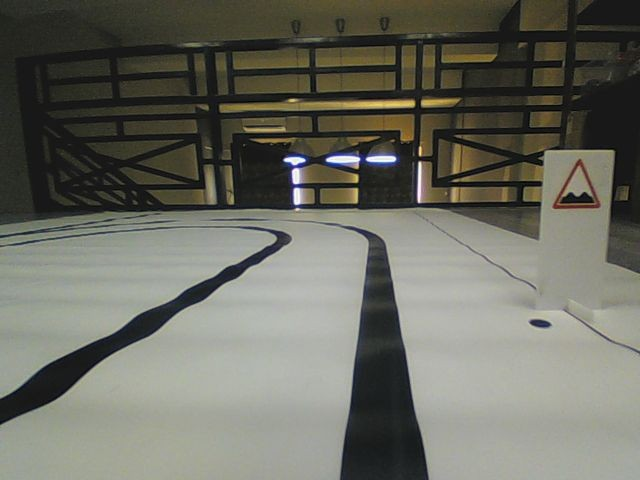Nerov: (552, 157, 601, 210)
